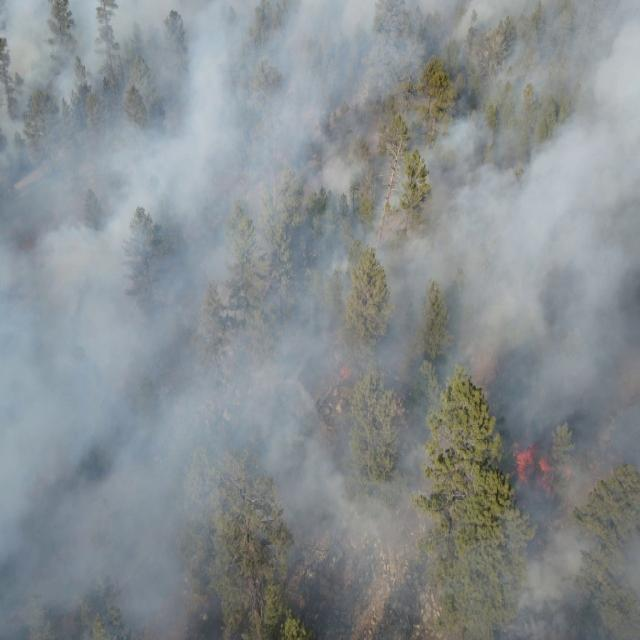fire: (508, 433, 556, 498), (336, 362, 354, 388), (560, 464, 576, 481)
smoke: (0, 0, 640, 640)
